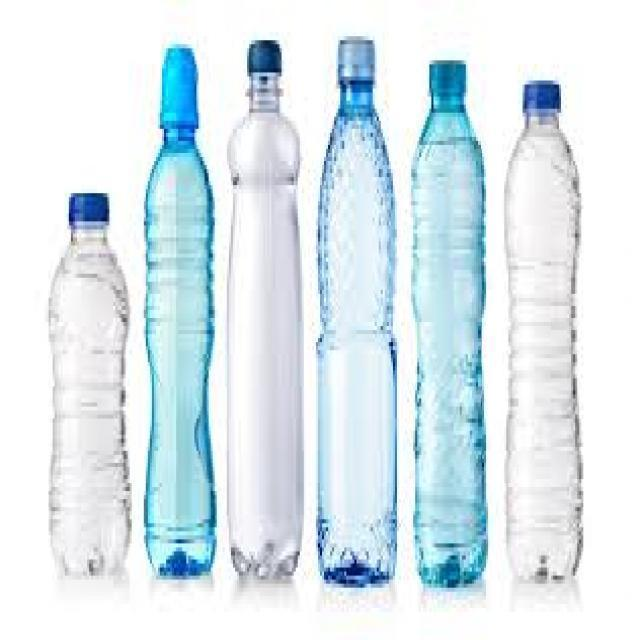Plastic: (317, 39, 398, 591), (408, 53, 489, 590), (228, 40, 302, 587), (144, 44, 218, 581), (503, 80, 581, 582), (49, 188, 132, 578)
